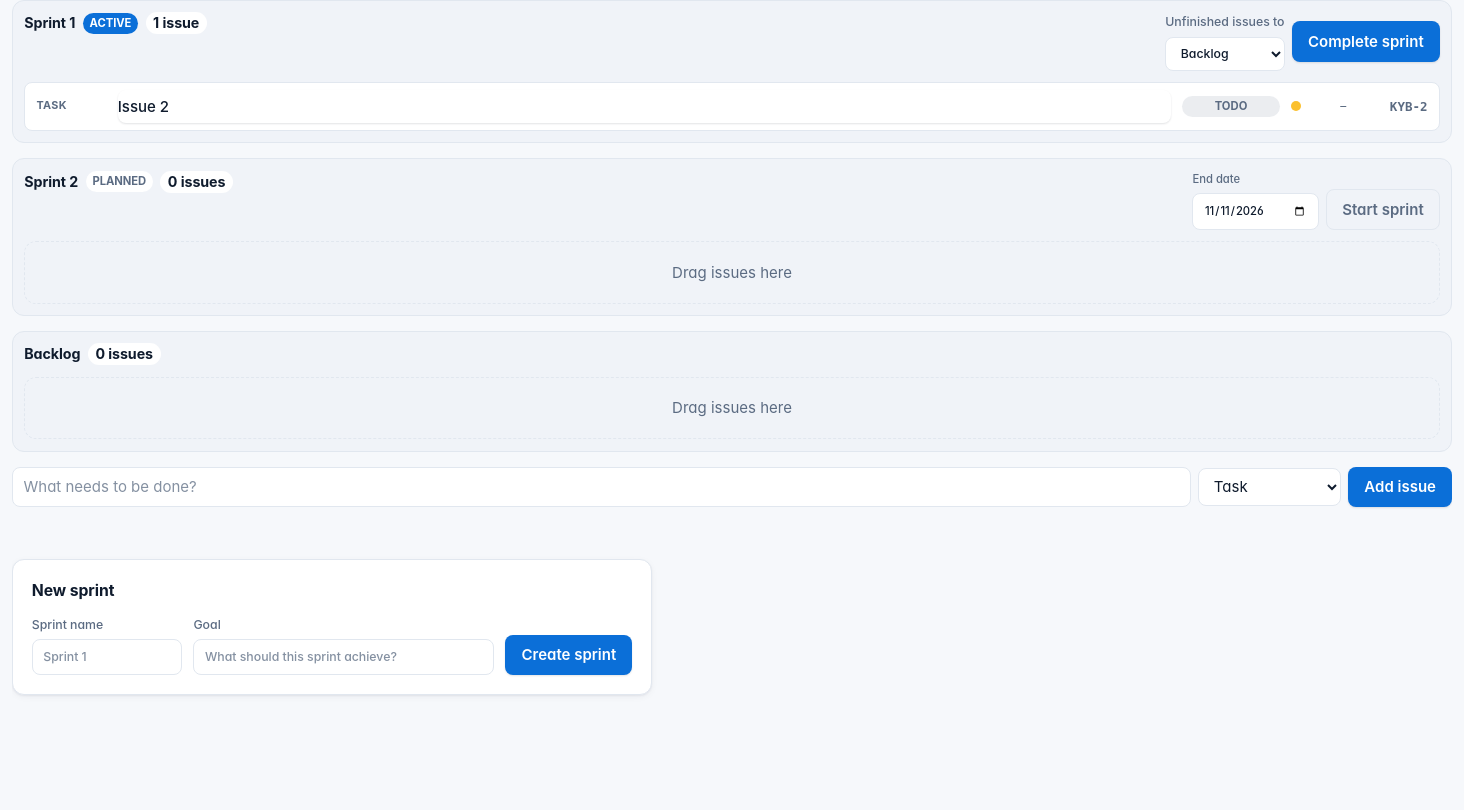
Test: Backlog (KYB-S20) › S47: carries unfinished issues over to the next sprint
Select "Sprint 2" in the dropdown labelled "Unfinished issues to" at (1225, 54), box top-left (1165, 36), bottom-right (1285, 70)
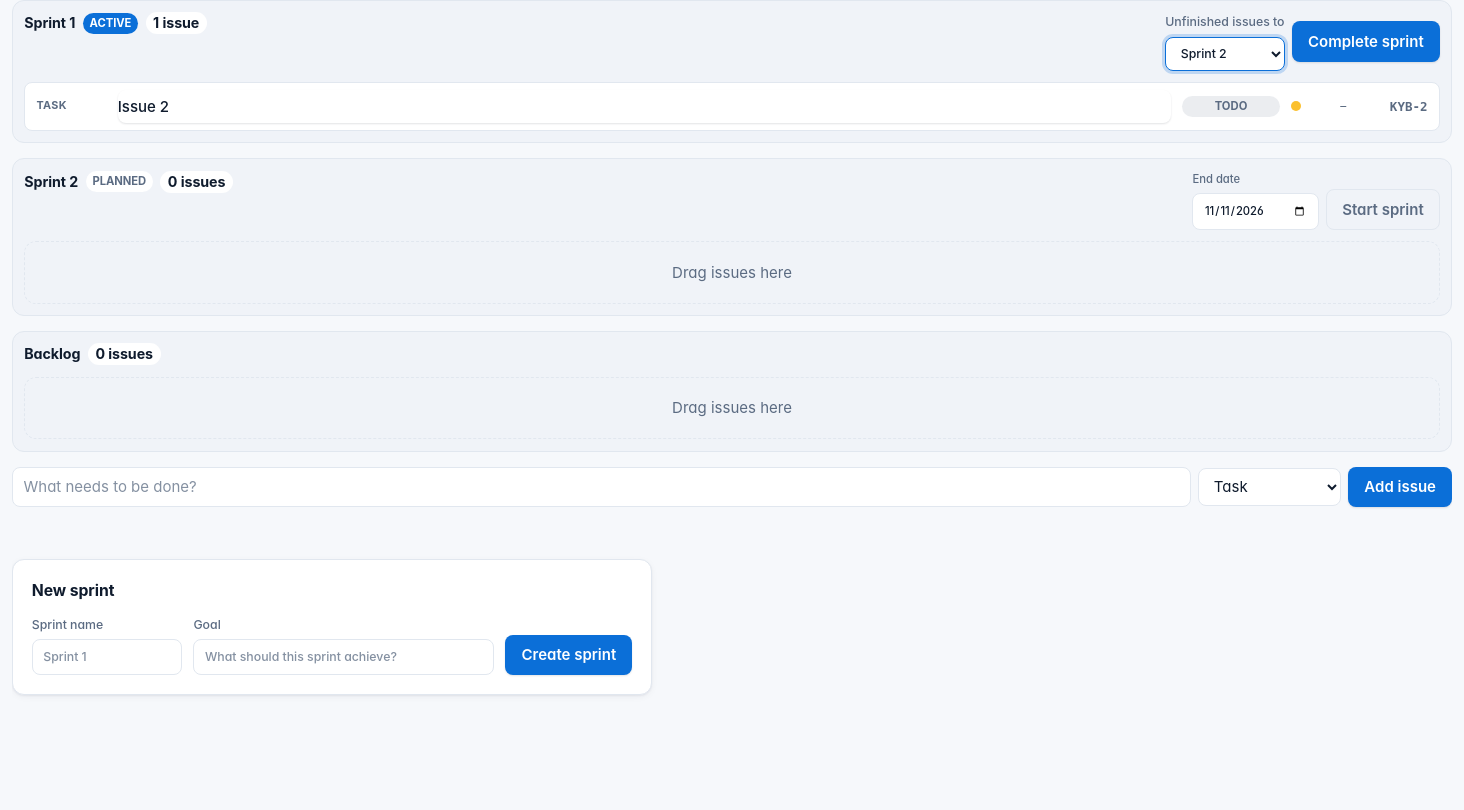
Click the button "Complete sprint" at (1366, 41), box top-left (1292, 21), bottom-right (1440, 62)
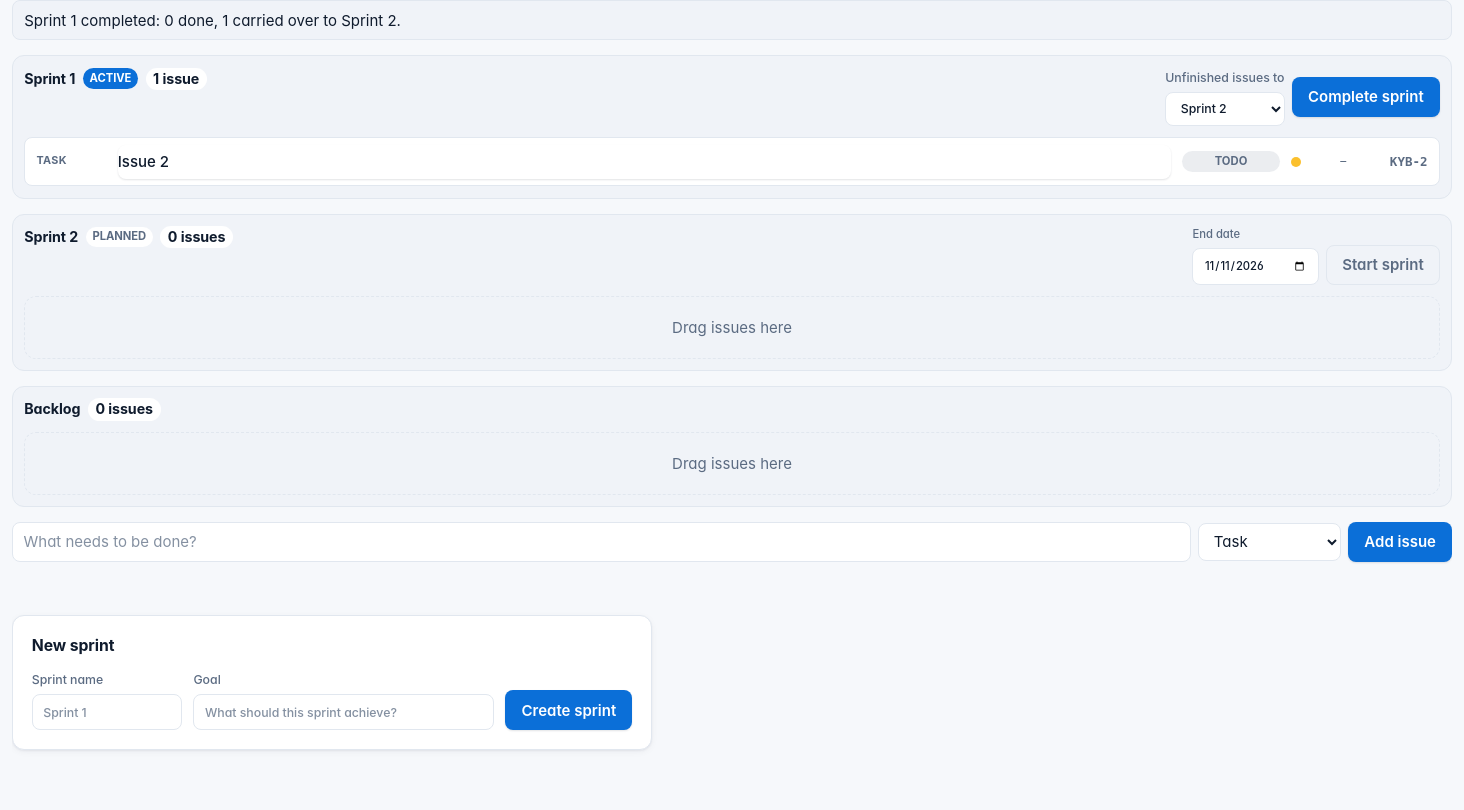
Expected: the message shows "1 carried over to Sprint 2.", top-left (24, 10), bottom-right (401, 30)
